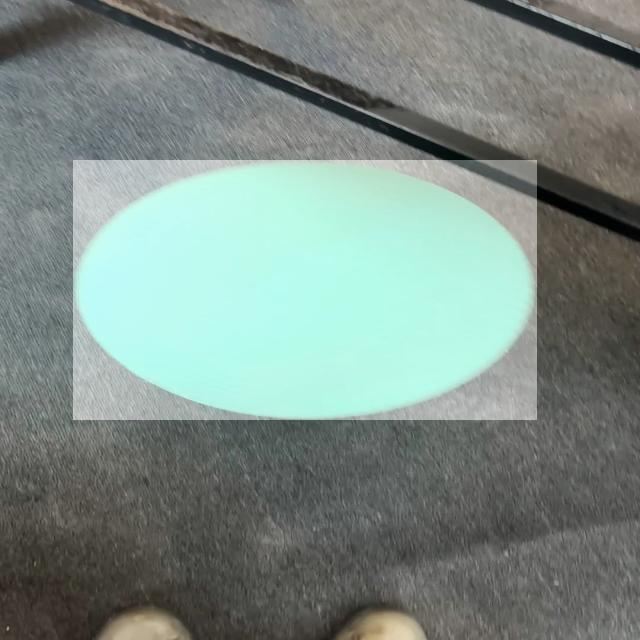Algae: (73, 160, 537, 420)
